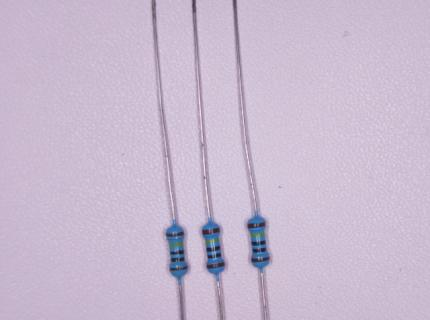Black band: (208, 253, 222, 259), (170, 250, 184, 255), (171, 257, 185, 262), (207, 246, 221, 251), (253, 248, 267, 253), (252, 241, 266, 245)
Brown band: (207, 262, 225, 269), (203, 228, 219, 235), (248, 222, 266, 228), (166, 232, 183, 237), (252, 257, 269, 262), (170, 267, 187, 271)
Yellow band: (250, 232, 264, 238), (206, 239, 219, 244), (169, 243, 182, 247)
